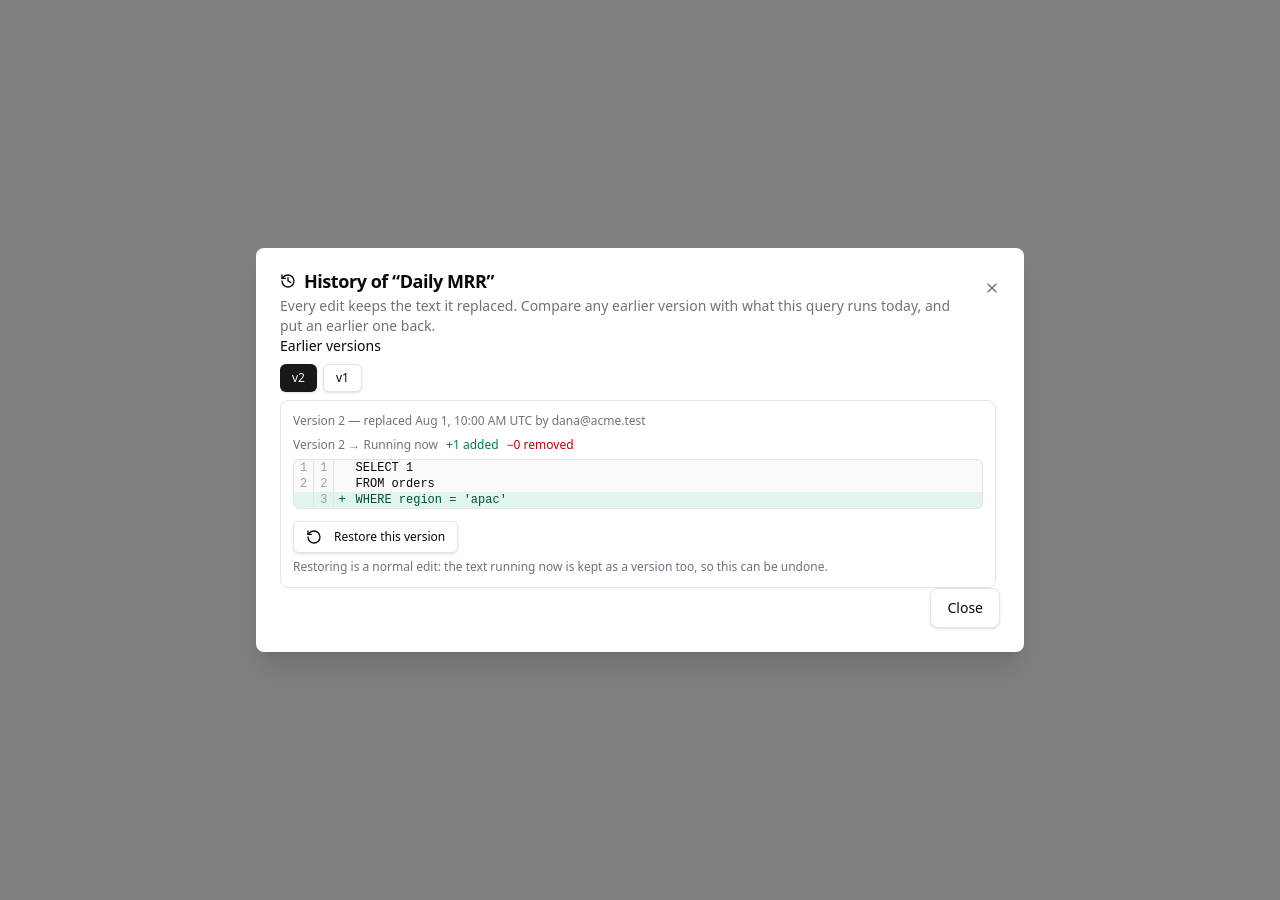
Scenario: SavedQueryHistoryDialog › names the author, and says 'you' for the reader's own edits
The image size is (1280, 900).
Expected: the button "v2" is shown, [280,364,317,392]
Expected: the text "Version 2 — replaced Aug 1, 10:00 AM UTC by dana@acme.test" is shown, [293,412,646,429]
Click the button "v1": (342, 378) [323,364,362,392]
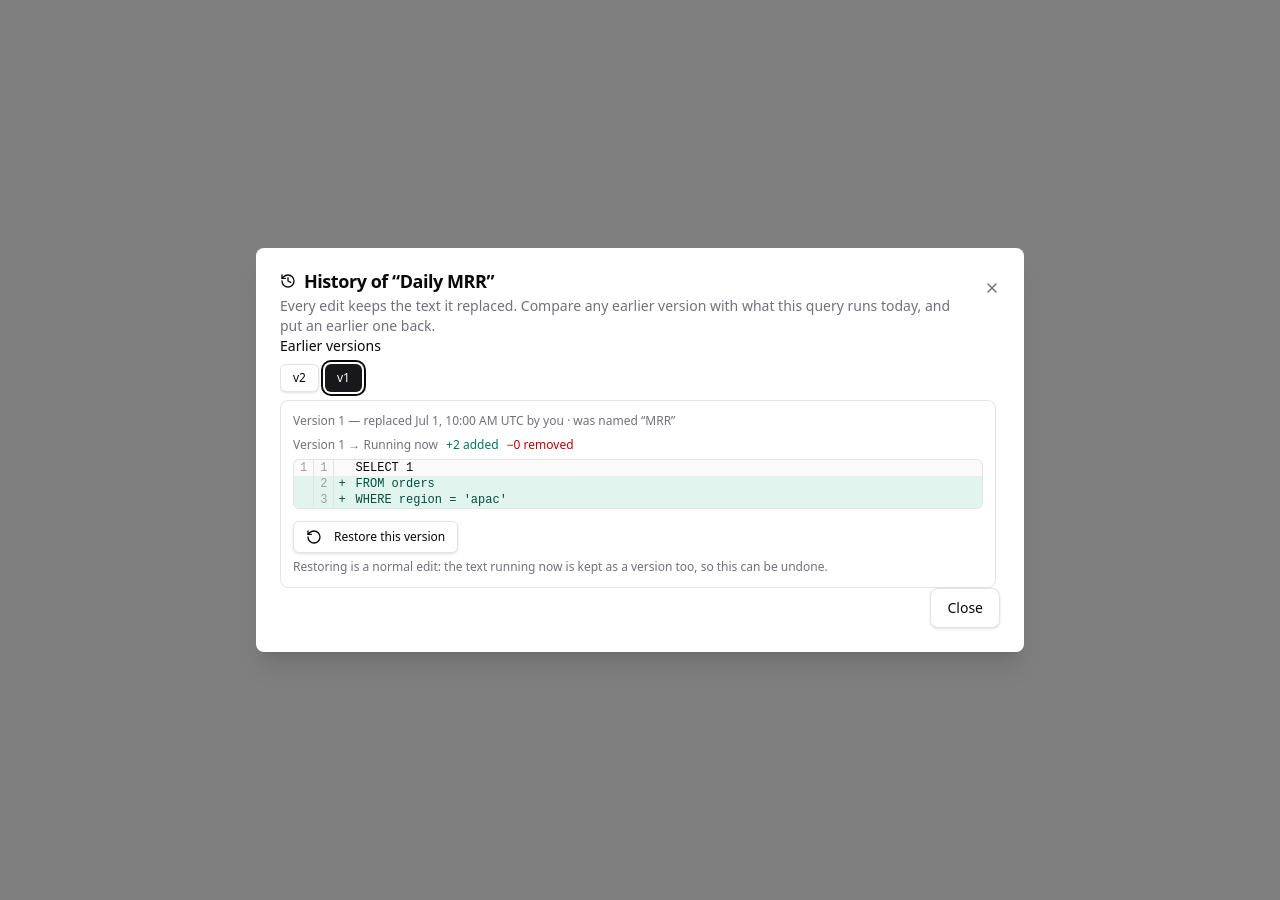
Result: the text "by you" is shown at [293,412,675,429]
